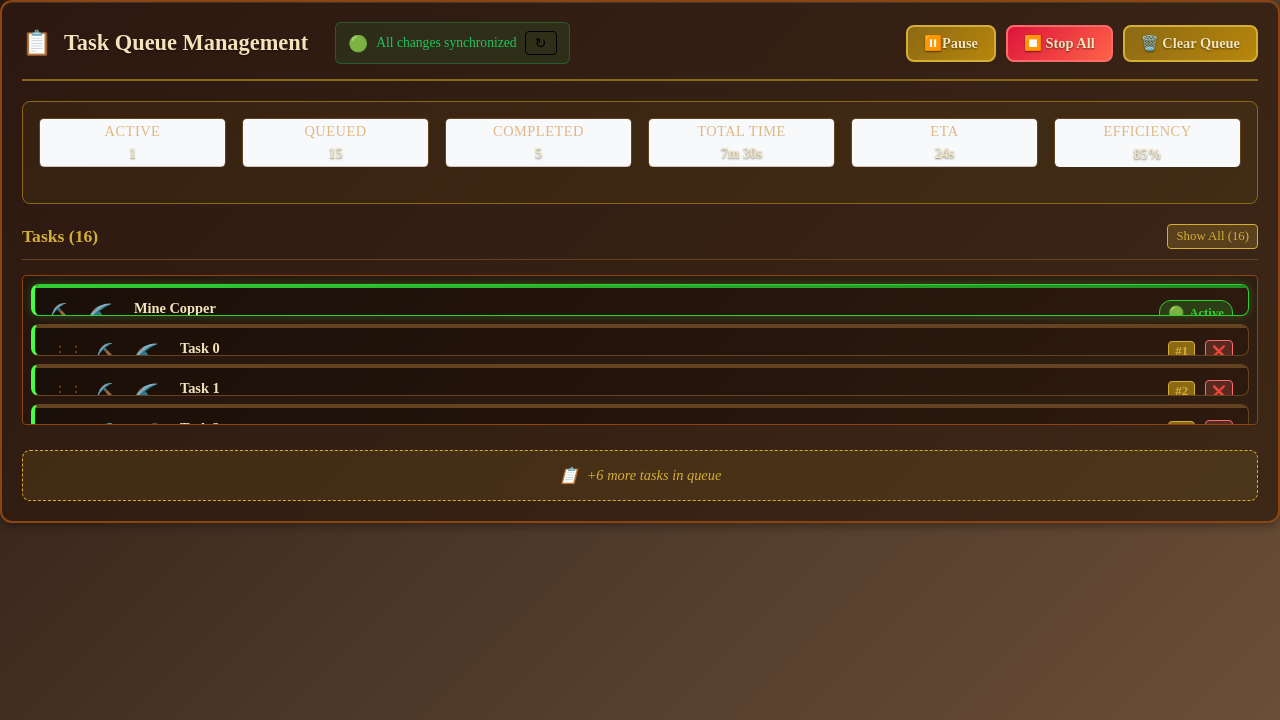
Test: TaskQueueManagement › shows/hides all tasks correctly
This screenshot has width=1280, height=720.
Click the button "Show All (16)".
click(1213, 236)  # box x1=1168 y1=224 x2=1258 y2=249
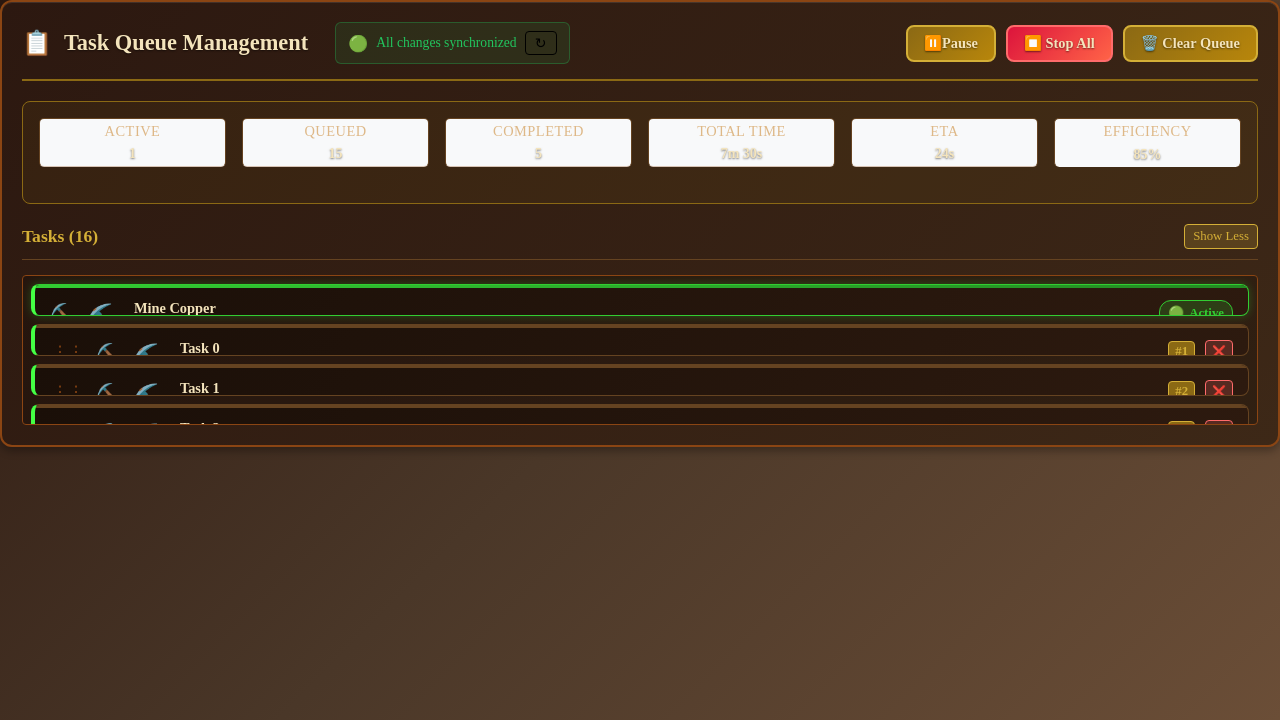
Expected: the button "Show Less" is shown, x1=1184 y1=224 x2=1258 y2=249
